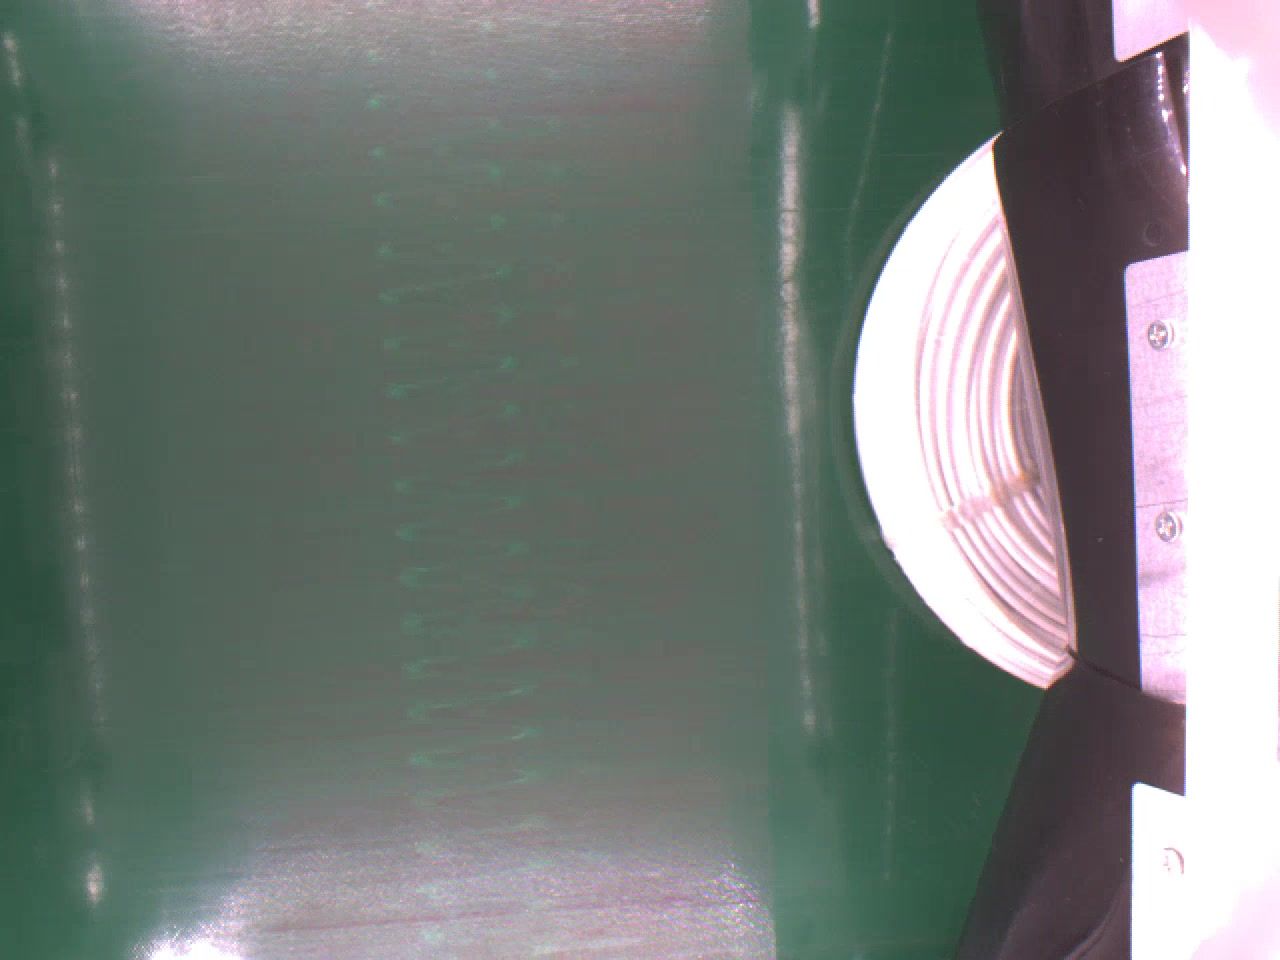white: (847, 125, 1075, 681)
